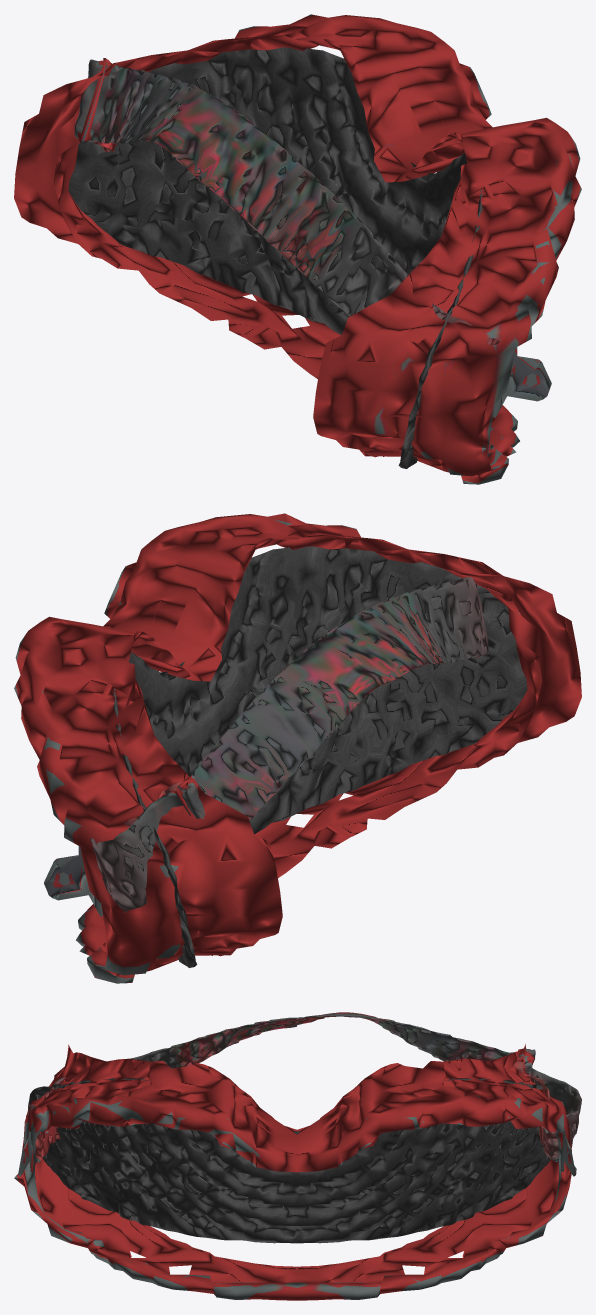
The model's file is ppe_eyeprotection_goggles_a01.glb.
3 renders of one model, top to bottom at view 1: azimuth 30°, elevation 25°; view 2: azimuth 150°, elevation 25°; view 3: azimuth 270°, elevation 25°, orthographic. The views are drawn at different scales.
Parts seen in each view (by area): view 1: prop; view 2: prop; view 3: prop.
Part boxes in pixels (x1=…): prop: x1=14, y1=14, x2=581, y2=484; prop: x1=14, y1=513, x2=581, y2=983; prop: x1=14, y1=1012, x2=581, y2=1300.
Bounding box in the file's own units: 0.3839 × 0.3053 × 0.7057.
Materials: 3 (3 with a texture image).
